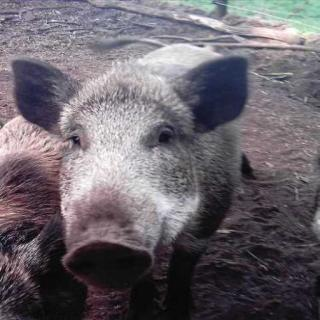Pig: (0, 29, 242, 299)
